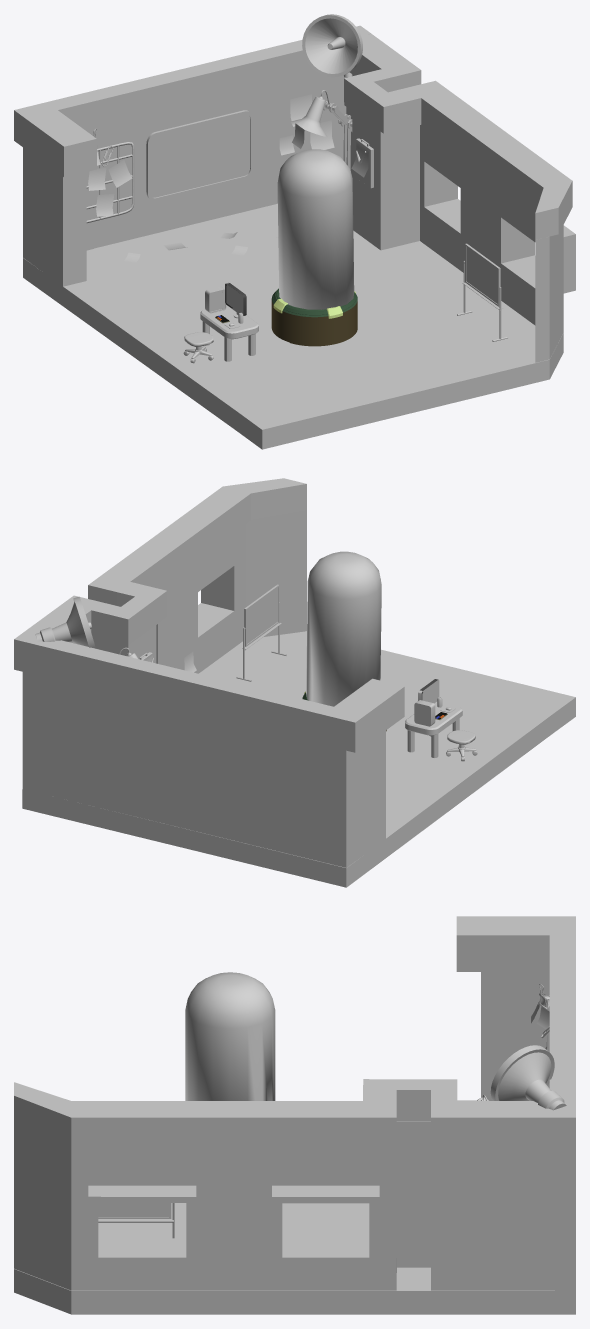
File: design_L.fbx
3 views of the same model, one above another, from view 1: azimuth 30°, elevation 25°; view 2: azimuth 150°, elevation 25°; view 3: azimuth 270°, elevation 25° (orthographic). The views are drawn at different scales.
Parts seen in each view (by area): view 1: d_floor2_L, design wall4_L, design wall3_L, design wall1_L, design wall2_L, d_glass_L, d_board_L, Cube.030, loud speaker_L, design paper_L, Backboard_L, d_desk_L.002_L (+3 smaller); view 2: design wall3_L, d_floor2_L, design wall1_L, design wall4_L, design wall2_L, d_glass_L, Backboard_L, loud speaker_L, d_desk_L.002_L, design chair_L; view 3: design wall4_L, design wall2_L, d_floor2_L, d_glass_L, design wall1_L, design wall3_L, loud speaker_L, Backboard_L.
Part boxes in pixels (bbox=[...]): d_floor2_L: bbox=[23, 203, 563, 449]; design wall4_L: bbox=[346, 74, 575, 362]; design wall3_L: bbox=[23, 75, 346, 286]; design wall1_L: bbox=[14, 25, 370, 177]; design wall2_L: bbox=[344, 33, 572, 239]; d_glass_L: bbox=[277, 149, 354, 309]; d_board_L: bbox=[146, 110, 253, 201]; Cube.030: bbox=[271, 288, 357, 346]; loud speaker_L: bbox=[302, 14, 362, 77]; design paper_L: bbox=[88, 94, 368, 216]; Backboard_L: bbox=[457, 243, 508, 341]; d_desk_L.002_L: bbox=[200, 305, 258, 361]; design wall3_L: bbox=[22, 672, 385, 867]; d_floor2_L: bbox=[22, 631, 575, 887]; design wall1_L: bbox=[14, 631, 404, 752]; design wall4_L: bbox=[92, 510, 306, 673]; design wall2_L: bbox=[25, 478, 306, 645]; d_glass_L: bbox=[306, 551, 381, 706]; Backboard_L: bbox=[236, 584, 286, 681]; loud speaker_L: bbox=[35, 596, 95, 648]; d_desk_L.002_L: bbox=[405, 701, 462, 757]; design chair_L: bbox=[446, 730, 477, 761]; design wall4_L: bbox=[14, 1121, 554, 1290]; design wall2_L: bbox=[14, 1079, 554, 1149]; d_floor2_L: bbox=[14, 1100, 575, 1314]; d_glass_L: bbox=[185, 972, 275, 1100]; design wall1_L: bbox=[456, 916, 575, 1154]; design wall3_L: bbox=[481, 967, 575, 1290]; loud speaker_L: bbox=[490, 1045, 566, 1110]; Backboard_L: bbox=[98, 1203, 174, 1238].
Bounding box in the file's own units: 997 × 1141 × 550.
